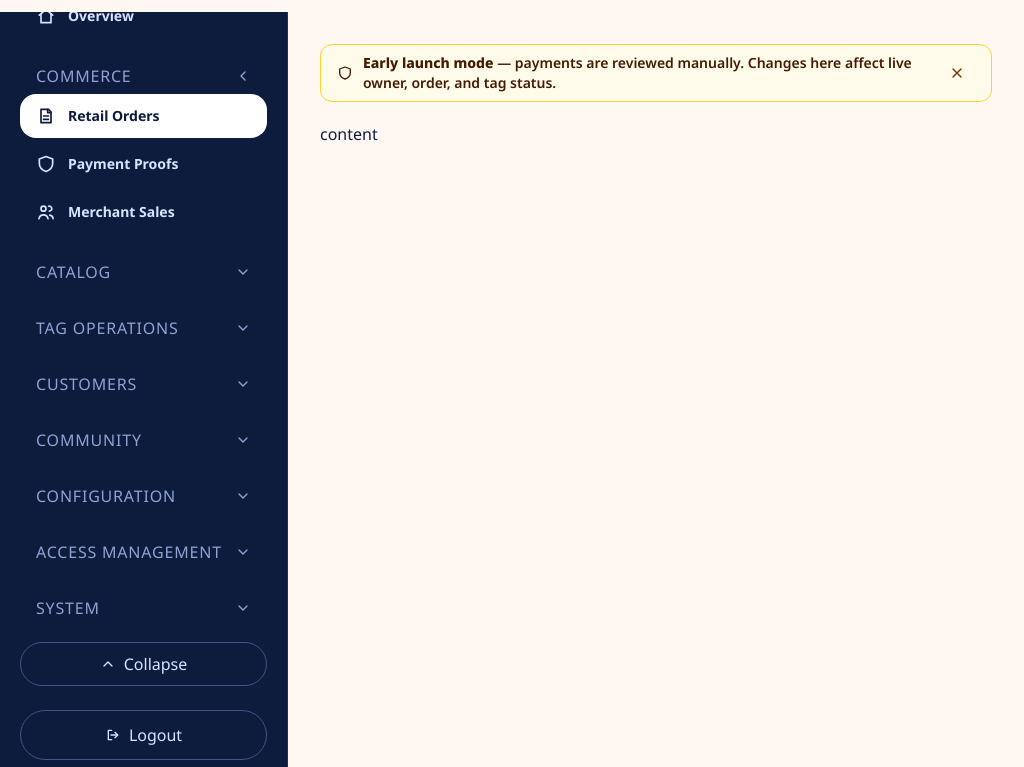
Scenario: whole-sidebar collapse › collapses to an icon rail and keeps every destination reachable by name
The image size is (1024, 767).
(page scrolled)
Click the button with aria-label "Collapse sidebar".
click(144, 664)  # box [20,642,267,686]
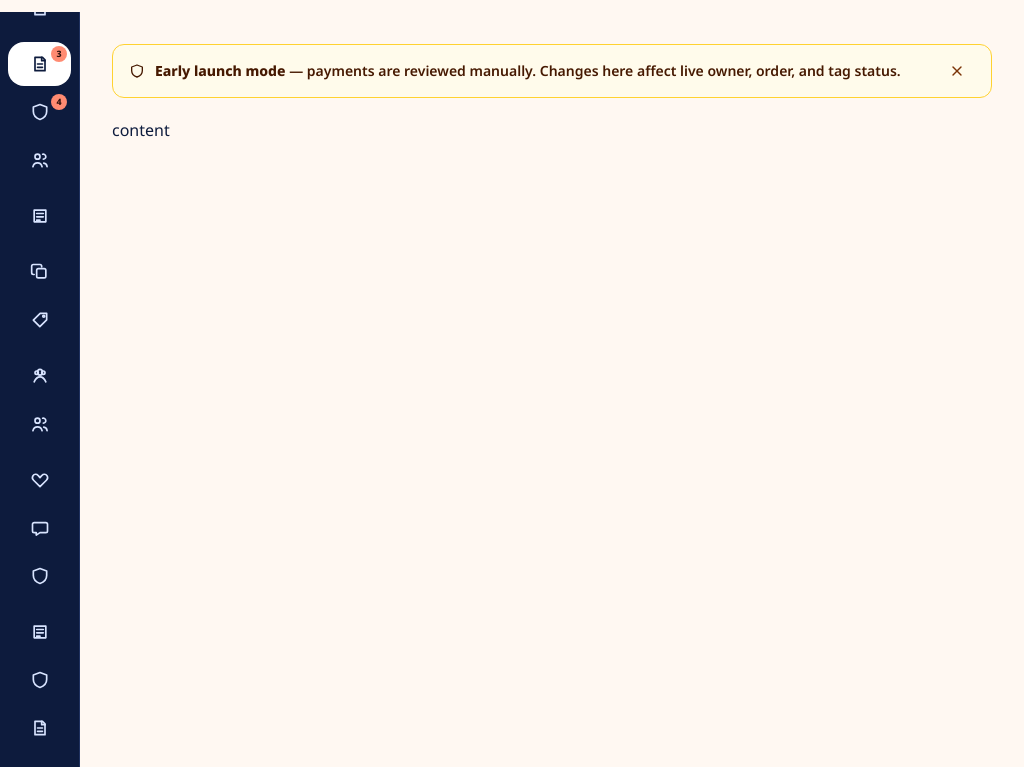
Expected: the link named "Tag Catalog" is shown, [8,194,71,238]
Expected: the button "Commerce" is gone
